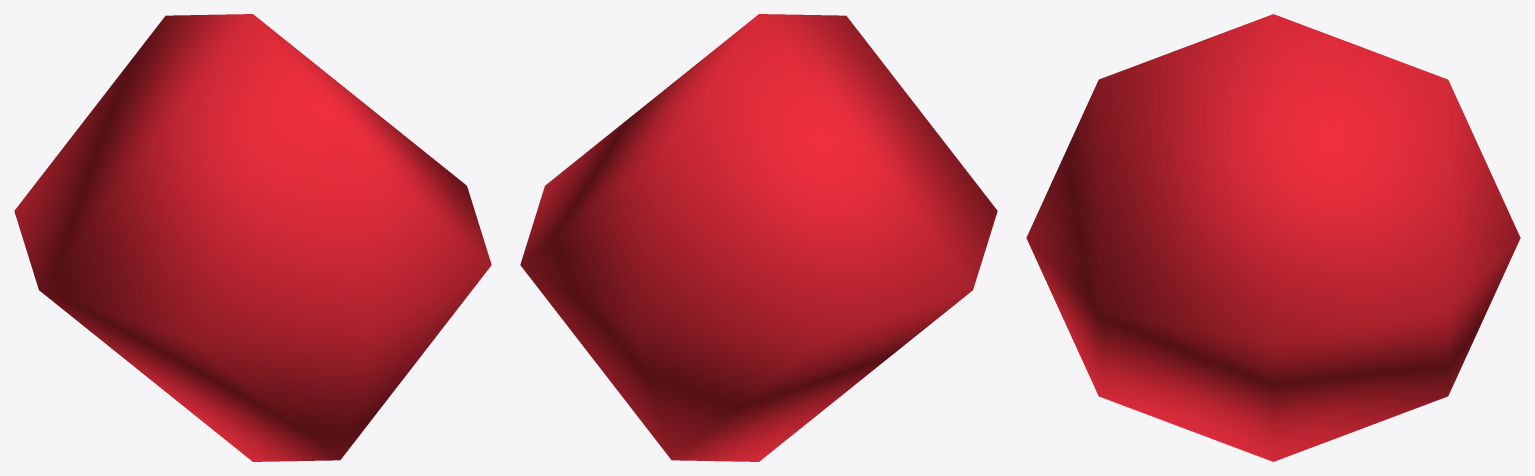
The model's file is bullet1.FBX.
The picture shows the model from 3 angles, left to right: view 1: azimuth 30°, elevation 25°; view 2: azimuth 150°, elevation 25°; view 3: azimuth 270°, elevation 25°; orthographic projection.
Visible parts, largest first — view 1: pea_proj; view 2: pea_proj; view 3: pea_proj.
Part boxes in pixels (<box>): pea_proj: <box>14,14,491,461</box>; pea_proj: <box>520,14,997,461</box>; pea_proj: <box>1026,14,1520,461</box>.
Size of the model in its own units: 200 by 200 by 200.
1 material, 1 textured.
